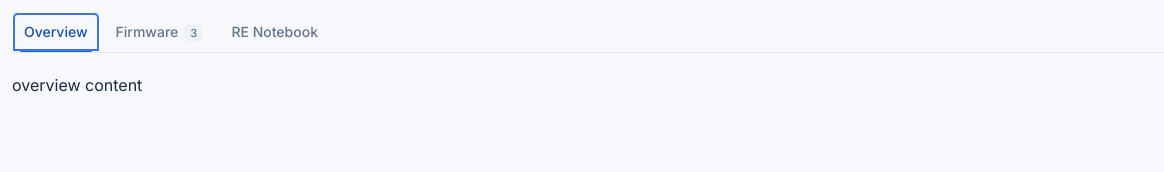
Scenario: Tabs › are reached as one stop, and arrow keys move focus without selecting (manual activation)
Press ArrowRight in the tab "Overview", box x1=12 y1=12 x2=100 y2=52
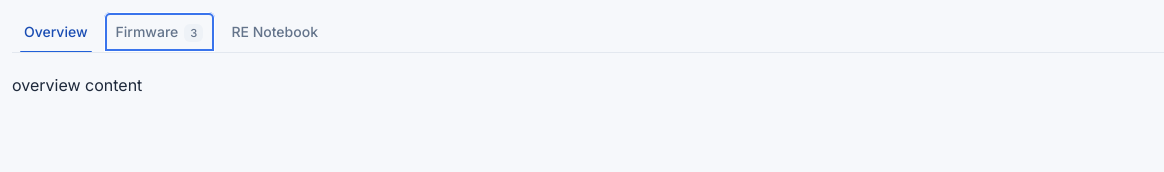
Press End in the tab "Firmware3", box x1=104 y1=12 x2=215 y2=52
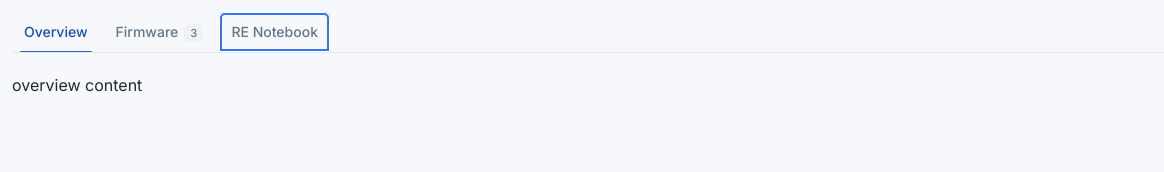
Press ArrowRight in the tab "RE Notebook", box x1=219 y1=12 x2=330 y2=52
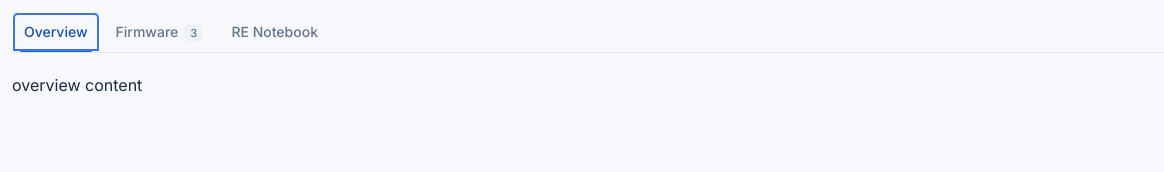
Press ArrowLeft in the tab "Overview", box x1=12 y1=12 x2=100 y2=52
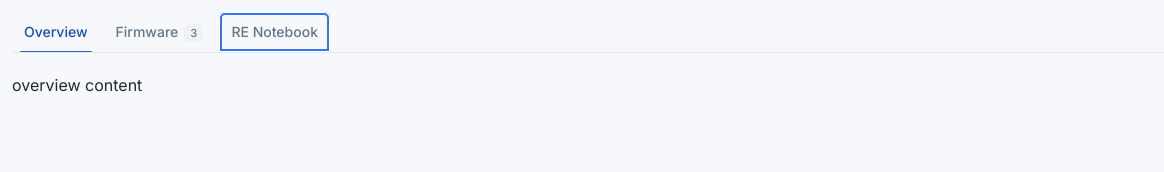
Click the tab "Firmware3" at (159, 32), box x1=104 y1=12 x2=215 y2=52
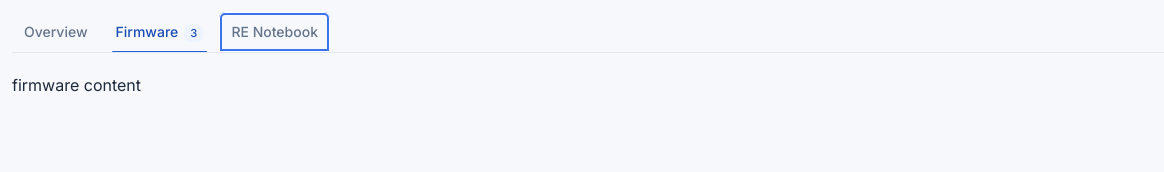
Check: the tab "Firmware3" is selected, box x1=104 y1=12 x2=215 y2=52
Check: the panel has attribute aria-labelledby="device-tab-firmware", box x1=12 y1=75 x2=141 y2=95
